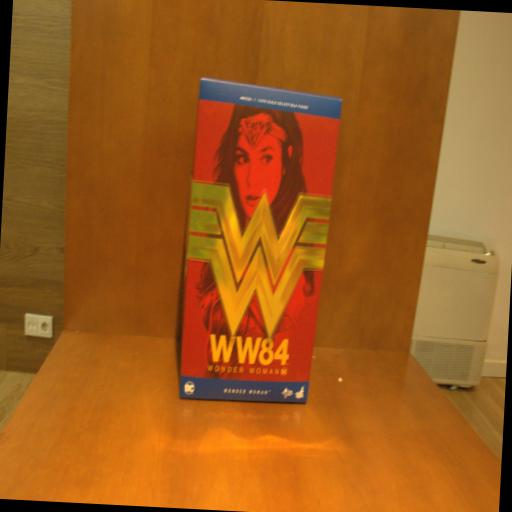WonderWoman: (176, 74, 344, 412)
